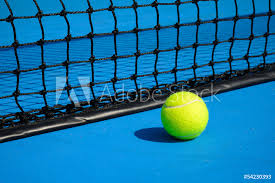tennis_ball: (160, 90, 209, 141)
